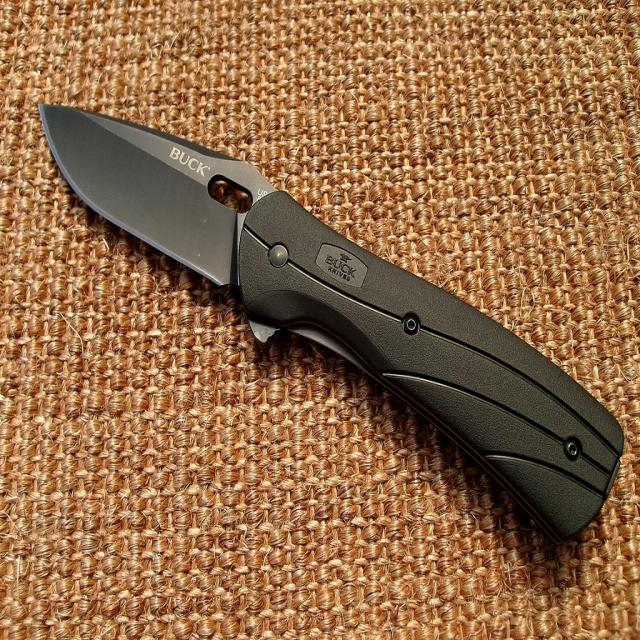Knife: (41, 106, 622, 538)
